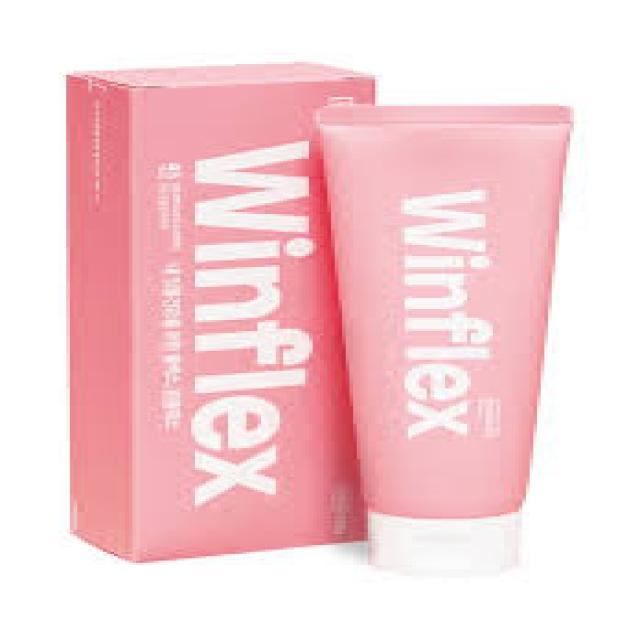toothpaste: (286, 84, 595, 586)
